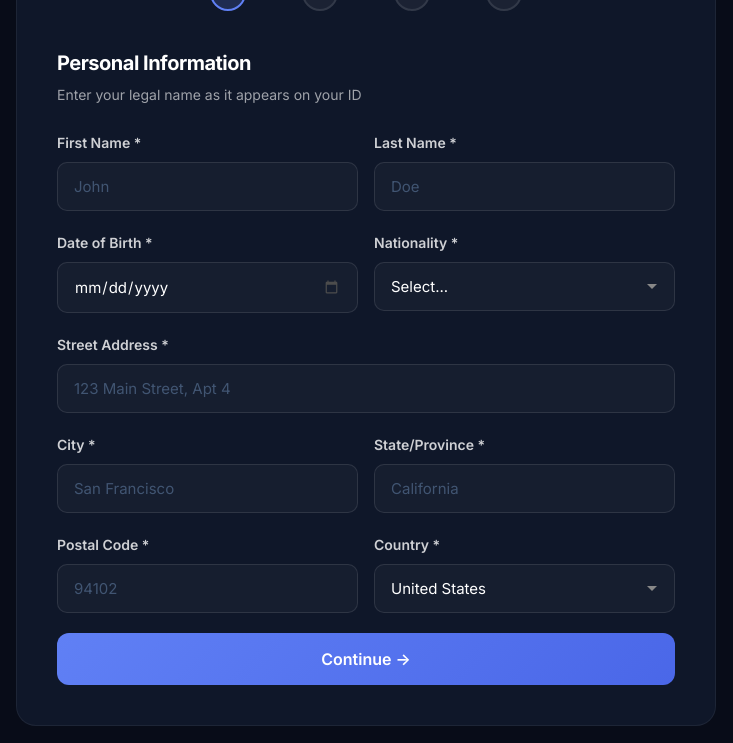
KYCVerification › step 1 - personal information › navigates to step 2 when clicking Continue
The image size is (733, 743).
(page scrolled)
Click the button "Continue →": (366, 659) [57, 633, 675, 685]
(page scrolled)
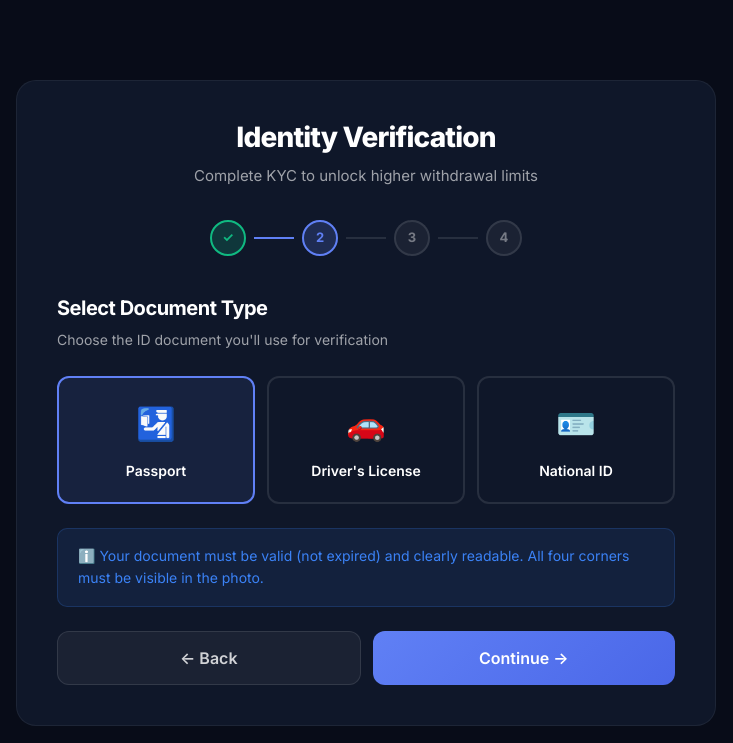
Result: the heading "Select Document Type" is shown at [57, 296, 268, 320]
